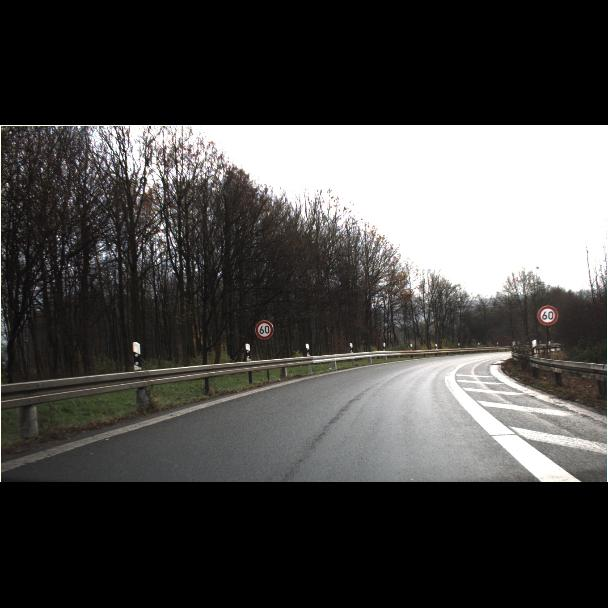speed limit 60: (254, 305, 558, 340)
